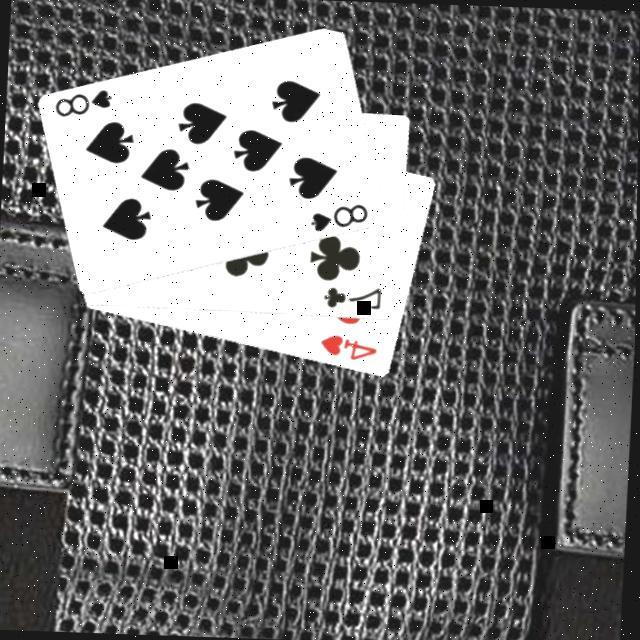4H: (316, 332, 381, 367)
7C: (320, 284, 385, 316)
8S: (306, 200, 371, 238), (51, 86, 116, 124)
